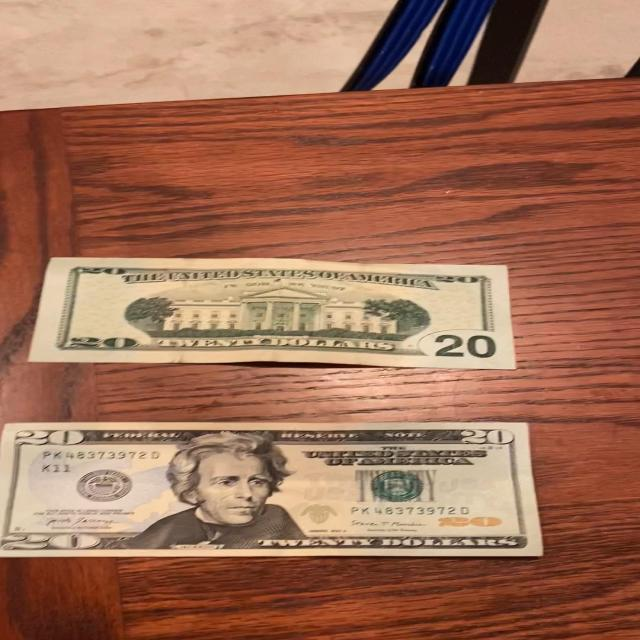20-Back: (23, 254, 525, 374)
20-Front: (0, 418, 543, 560)
